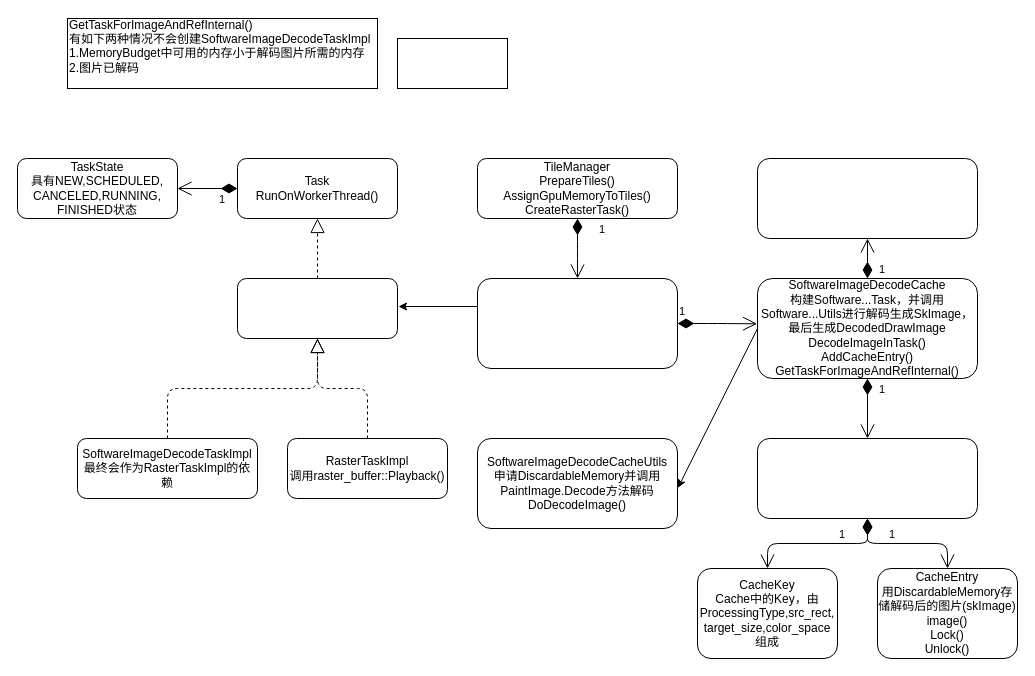
This 1035x676 diagram has some shape labels left out. Here are the shapes that lost their labels. From the top down, the box of each, then its label:
(396, 38, 508, 88): PaintImage DrawImage
(756, 158, 978, 238): MemoryBudget 记录用于解码的内存的状态(内存的最大值、当前使用值，以及当前剩余值) AvailableMemoryBytes()
(236, 278, 398, 338): TileTask 增加了Task的依赖关系
(476, 278, 678, 368): ImageController 为需要decode image的tile创建TileTask, ConvertDataImagesToTasks()
(756, 438, 978, 518): ImageMRUCahce
